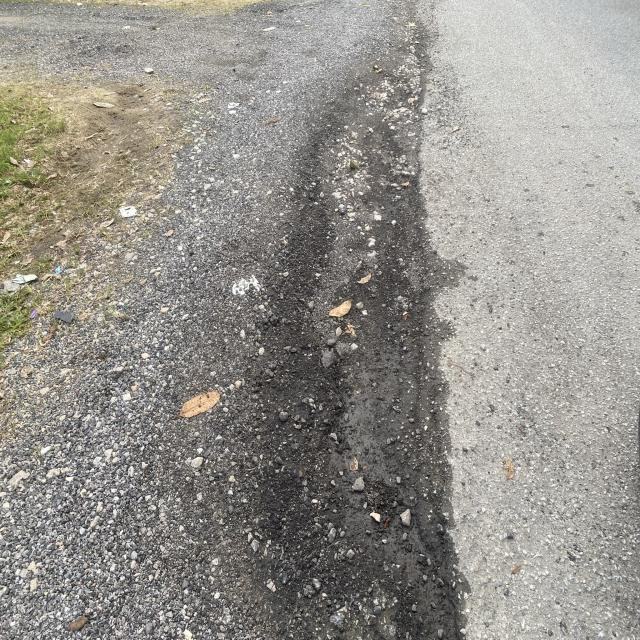Pothole: (276, 57, 484, 640)
